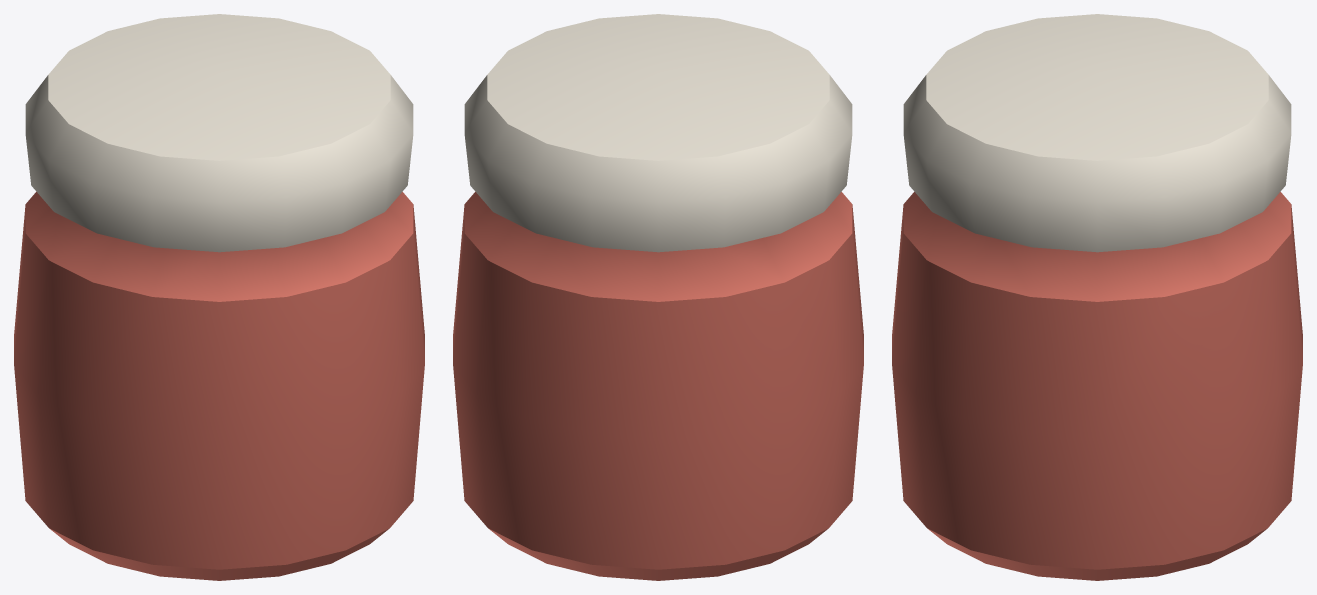
The model's file is forage_jar.glb.
3 views of the same model, side by side, from view 1: azimuth 30°, elevation 25°; view 2: azimuth 150°, elevation 25°; view 3: azimuth 270°, elevation 25° (orthographic).
Visible parts, largest first — view 1: PART; view 2: PART; view 3: PART.
Boxes of the visible parts, x1,y1,x2,y2 form: PART: (14,14,424,580); PART: (453,14,863,580); PART: (892,14,1302,580).
Size of the model in its own units: 0.072 by 0.083 by 0.0709.
